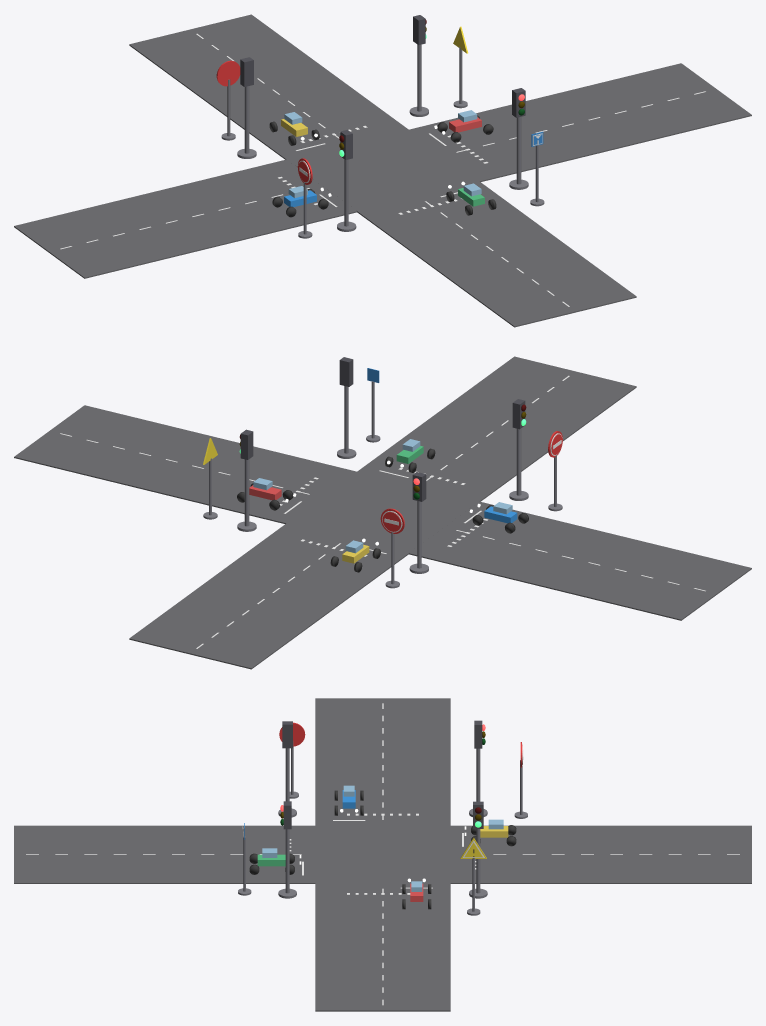
File: projek rambu lalulintas.glb2 .glb
The picture shows the model from 3 angles, top to bottom: view 1: azimuth 30°, elevation 25°; view 2: azimuth 150°, elevation 25°; view 3: azimuth 270°, elevation 25°; orthographic projection. The views are drawn at different scales.
Parts seen in each view (by area): view 1: Jalan_Utara_Selatan, Jalan_Timur_Barat, Marka_Jalan, Badan_Lampu_ArahSelatan, Badan_Lampu_ArahUtara, Badan_Lampu_ArahBarat, Mobil_Ke_Barat, Mobil_Ke_Timur, Badan_Lampu_ArahTimur, Rambu_Larangan_ArahSelatan, Mobil_Ke_Selatan, Mobil_Ke_Utara (+1 smaller); view 2: Jalan_Utara_Selatan, Jalan_Timur_Barat, Marka_Jalan, Badan_Lampu_ArahBarat, Badan_Lampu_ArahUtara, Badan_Lampu_ArahTimur, Mobil_Ke_Timur, Badan_Lampu_ArahSelatan, Mobil_Ke_Barat, Rambu_Larangan_ArahSelatan, Mobil_Ke_Utara, Mobil_Ke_Selatan (+1 smaller); view 3: Jalan_Utara_Selatan, Jalan_Timur_Barat, Marka_Jalan, Mobil_Ke_Utara, Badan_Lampu_ArahUtara, Mobil_Ke_Selatan, Badan_Lampu_ArahTimur, Badan_Lampu_ArahBarat, Badan_Lampu_ArahSelatan, Rambu_Peringatan_ArahBarat, Mobil_Ke_Timur.
Boxes of the visible parts, bbox=[...] form: Jalan_Utara_Selatan: bbox=[129, 14, 636, 327]; Jalan_Timur_Barat: bbox=[14, 63, 751, 278]; Marka_Jalan: bbox=[60, 33, 705, 306]; Badan_Lampu_ArahSelatan: bbox=[237, 57, 256, 158]; Badan_Lampu_ArahUtara: bbox=[509, 88, 528, 189]; Badan_Lampu_ArahBarat: bbox=[409, 15, 428, 116]; Mobil_Ke_Barat: bbox=[434, 110, 493, 142]; Mobil_Ke_Timur: bbox=[272, 186, 331, 217]; Badan_Lampu_ArahTimur: bbox=[337, 129, 356, 231]; Rambu_Larangan_ArahSelatan: bbox=[216, 60, 240, 140]; Mobil_Ke_Selatan: bbox=[269, 112, 319, 145]; Mobil_Ke_Utara: bbox=[446, 181, 496, 215]; Jalan_Utara_Selatan: bbox=[129, 356, 636, 669]; Jalan_Timur_Barat: bbox=[14, 405, 751, 620]; Marka_Jalan: bbox=[60, 375, 705, 648]; Badan_Lampu_ArahBarat: bbox=[237, 429, 256, 531]; Badan_Lampu_ArahUtara: bbox=[337, 357, 356, 458]; Badan_Lampu_ArahTimur: bbox=[509, 399, 528, 500]; Mobil_Ke_Timur: bbox=[469, 502, 528, 533]; Badan_Lampu_ArahSelatan: bbox=[409, 472, 428, 573]; Mobil_Ke_Barat: bbox=[237, 478, 296, 510]; Rambu_Larangan_ArahSelatan: bbox=[380, 508, 404, 588]; Mobil_Ke_Utara: bbox=[385, 439, 435, 472]; Mobil_Ke_Selatan: bbox=[330, 538, 380, 572]; Jalan_Utara_Selatan: bbox=[14, 825, 751, 883]; Jalan_Timur_Barat: bbox=[315, 698, 450, 1011]; Marka_Jalan: bbox=[26, 703, 739, 1005]; Mobil_Ke_Utara: bbox=[249, 848, 301, 874]; Badan_Lampu_ArahUtara: bbox=[278, 801, 296, 898]; Mobil_Ke_Selatan: bbox=[464, 819, 516, 846]; Badan_Lampu_ArahTimur: bbox=[278, 721, 296, 817]; Badan_Lampu_ArahBarat: bbox=[469, 801, 487, 898]; Badan_Lampu_ArahSelatan: bbox=[469, 720, 487, 816]; Rambu_Peringatan_ArahBarat: bbox=[460, 837, 486, 915]; Mobil_Ke_Timur: bbox=[334, 785, 363, 815].
Bounding box in the file's own units: 24 × 3.31 × 24.
